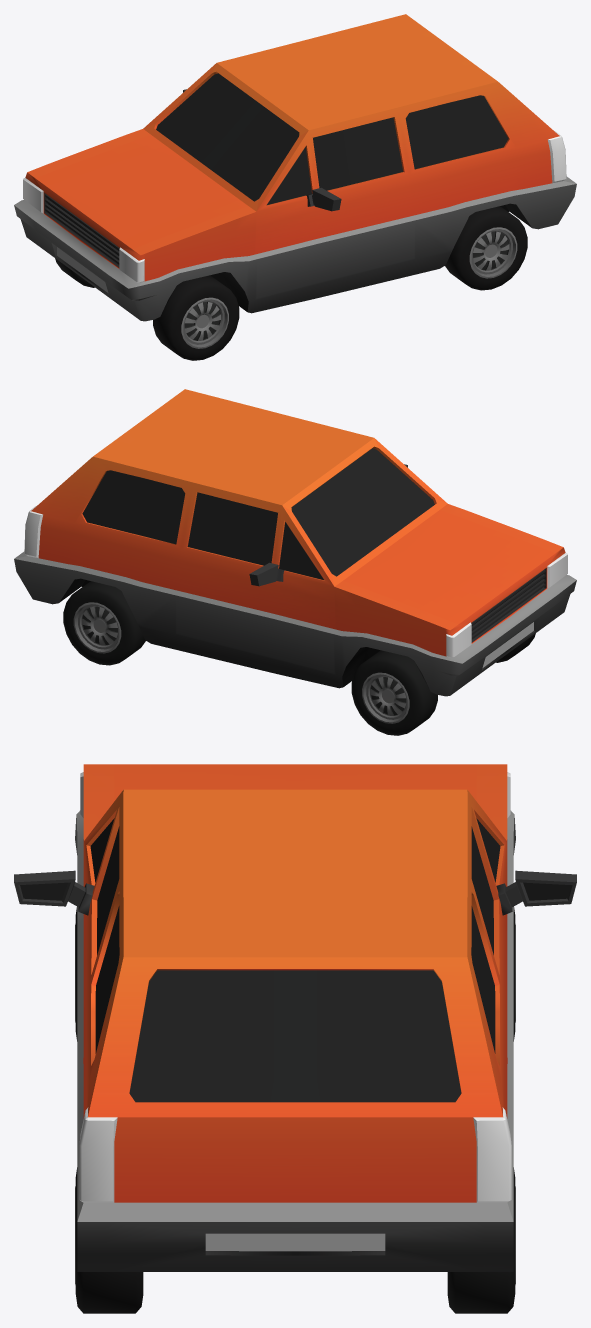
Rendered from Fiat_Panda_2001 1.fbx.
3 views of the same model, one above another, from view 1: azimuth 30°, elevation 25°; view 2: azimuth 150°, elevation 25°; view 3: azimuth 270°, elevation 25° (orthographic). The views are drawn at different scales.
Parts seen in each view (by area): view 1: Fiat_Panda_2001, ForWheel_Left, BackWheel_Left; view 2: Fiat_Panda_2001, ForWheel_Right, BackWheel_Right; view 3: Fiat_Panda_2001, BackWheel_Right, BackWheel_Left.
Boxes of the visible parts, left/top/right/bottom form: Fiat_Panda_2001: left=14, top=14, right=576, bottom=321; ForWheel_Left: left=153, top=275, right=239, bottom=360; BackWheel_Left: left=445, top=206, right=527, bottom=290; Fiat_Panda_2001: left=14, top=389, right=576, bottom=696; ForWheel_Right: left=351, top=650, right=437, bottom=735; BackWheel_Right: left=63, top=581, right=145, bottom=665; Fiat_Panda_2001: left=14, top=764, right=576, bottom=1271; BackWheel_Right: left=447, top=1167, right=515, bottom=1313; BackWheel_Left: left=75, top=1167, right=143, bottom=1313.
Bounding box in the file's own units: 470 × 197 × 275.
